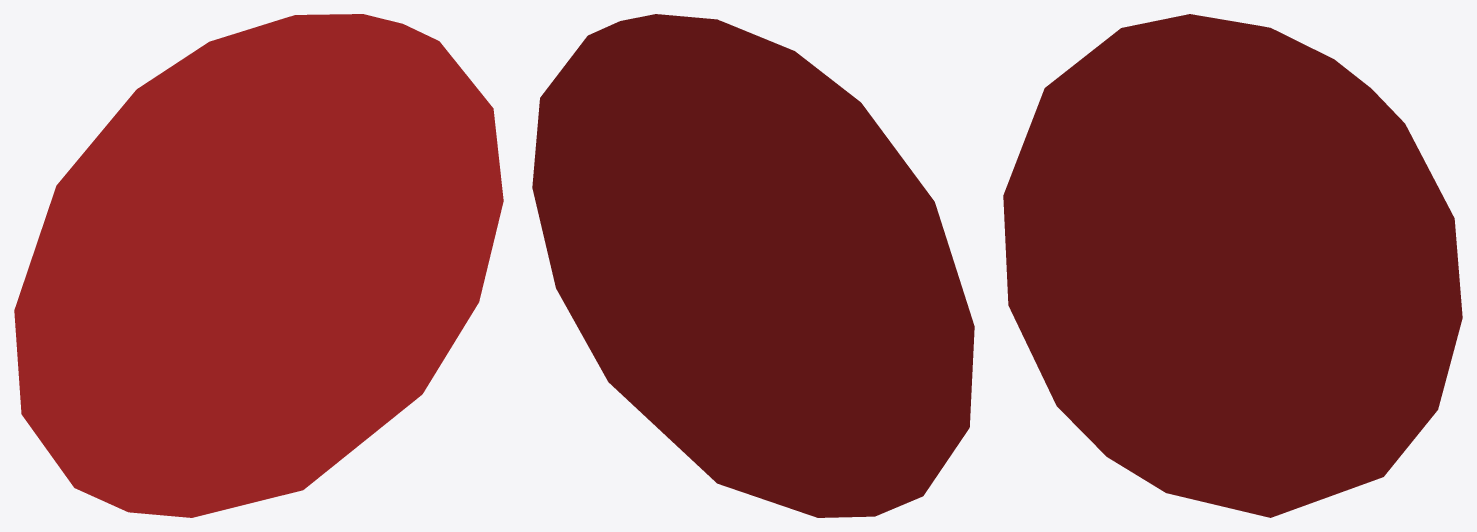
The model's file is converted_link3_9_d12626ff.obj.
3 renders of one model, left to right at view 1: azimuth 30°, elevation 25°; view 2: azimuth 150°, elevation 25°; view 3: azimuth 330°, elevation 25°, orthographic. The views are drawn at different scales.
Bounding box in the file's own units: 0.00153 × 0.0015 × 0.00012.
